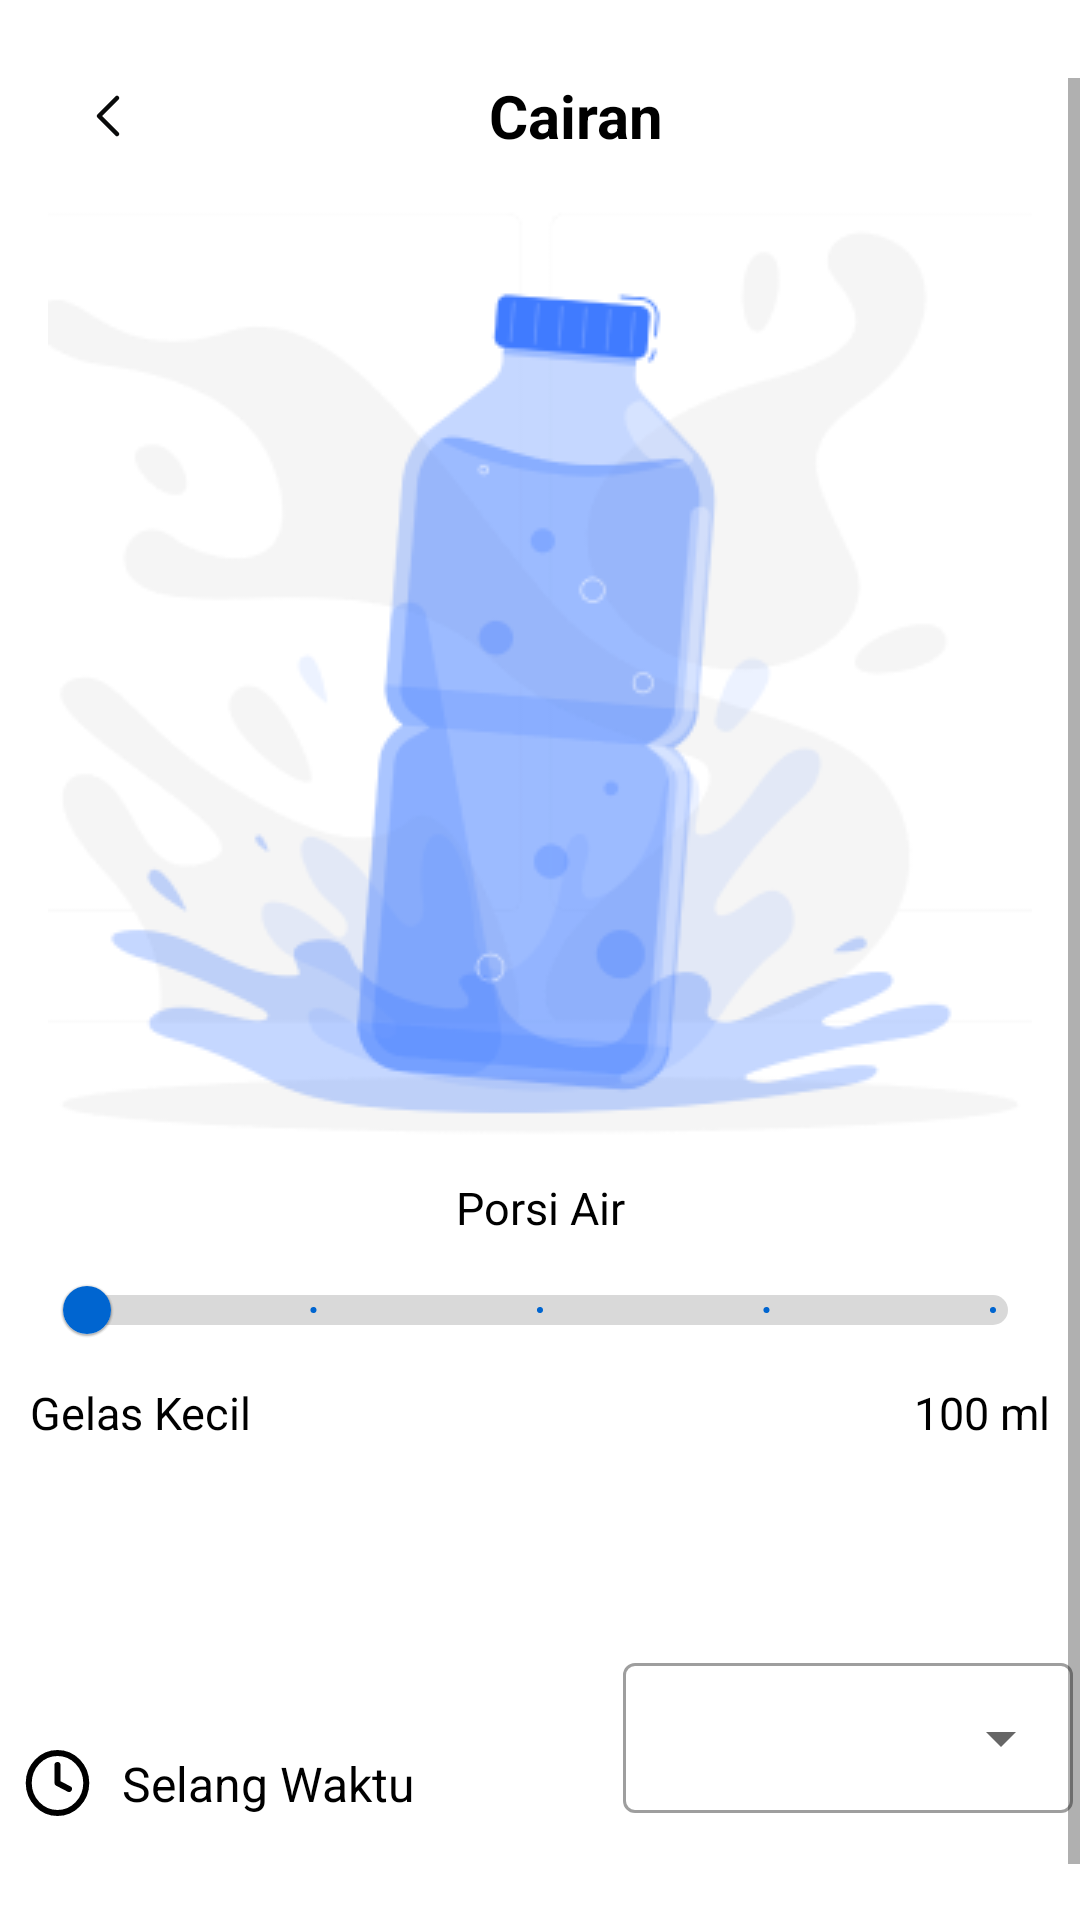

Screen size 1080*1920. Icon name, then its center in pixels as point (x, y):
back: point (108, 116)
clock: point (57, 1783)
